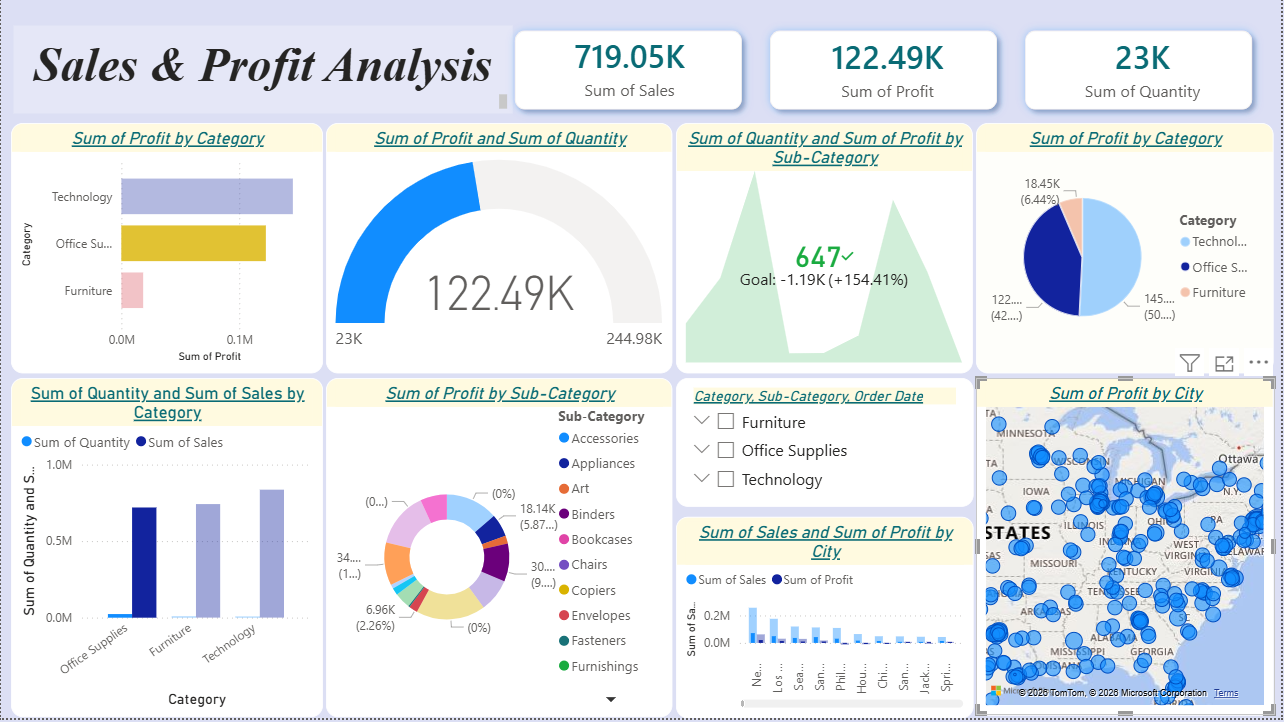

Layout of this report page (visuals, bound fields, positions):
{"tool":"powerbi","page":{"name":"Page 3","canvas":[1280,720],"ordinal":2},"visuals":[{"type":"barChart","fields":{"Y":["Sum(Orders.Profit)"],"Category":["Orders.Category"]},"box":[10.5,124.4,311.6,250],"z":0},{"type":"clusteredColumnChart","fields":{"Category":["Orders.Category"],"Y":["Sum(Orders.Quantity)","Sum(Orders.Sales)"]},"box":[10.5,380.2,311.6,339.5],"z":1000},{"type":"donutChart","fields":{"Y":["Sum(Orders.Profit)"],"Series":["Orders.Sub-Category"]},"box":[325.6,380.2,346.5,339.5],"z":2000},{"type":"gauge","fields":{"Y":["Sum(Orders.Profit)"],"MinValue":["Sum(Orders.Quantity)"]},"box":[325.6,125.6,346.5,250],"z":3000},{"type":"kpi","fields":{"TrendLine":["Orders.Sub-Category"],"Indicator":["Sum(Orders.Quantity)"],"Goal":["Sum(Orders.Profit)"]},"box":[674.4,125.6,296.5,250],"z":4000},{"type":"slicer","fields":{"Values":["Orders.Category","Orders.Sub-Category","Orders.Order Date"]},"box":[675.6,380.2,296.5,338.4],"z":5000},{"type":"pieChart","fields":{"Category":["Orders.Category"],"Y":["Sum(Orders.Profit)"]},"box":[975.6,125.6,297.7,250],"z":6000},{"type":"map","fields":{"Category":["Orders.City"],"Size":["Sum(Orders.Profit)"]},"box":[975.6,380.2,297.7,337.2],"z":7000},{"type":"textbox","title":"Sales & Profit Analysis","box":[13,27.9,498.8,88.4],"z":8000},{"type":"cardVisual","fields":{"Data":["Sum(Orders.Sales)","Sum(Orders.Profit)","Sum(Orders.Quantity)"]},"box":[509.3,3.5,770.9,137.2],"z":10000}]}

Visuals, with their boxes in screenshot pixels (x1, y1, x2, y2), scaled from the page's 1280x720 canvas onto the 1284x722 screenshot:
barChart - Sum(Orders.Profit) x Orders.Category: <region>11, 125, 323, 375</region>
clusteredColumnChart - Orders.Category x Sum(Orders.Quantity): <region>11, 381, 323, 721</region>
donutChart - Sum(Orders.Profit) x Orders.Sub-Category: <region>327, 381, 674, 721</region>
gauge - Sum(Orders.Profit) x Sum(Orders.Quantity): <region>327, 126, 674, 377</region>
kpi - Orders.Sub-Category x Sum(Orders.Quantity): <region>677, 126, 974, 377</region>
slicer - Orders.Category x Orders.Sub-Category: <region>678, 381, 975, 721</region>
pieChart - Orders.Category x Sum(Orders.Profit): <region>979, 126, 1277, 377</region>
map - Orders.City x Sum(Orders.Profit): <region>979, 381, 1277, 719</region>
"Sales & Profit Analysis" textbox: <region>13, 28, 513, 117</region>
cardVisual - Sum(Orders.Sales) x Sum(Orders.Profit): <region>511, 4, 1283, 141</region>
